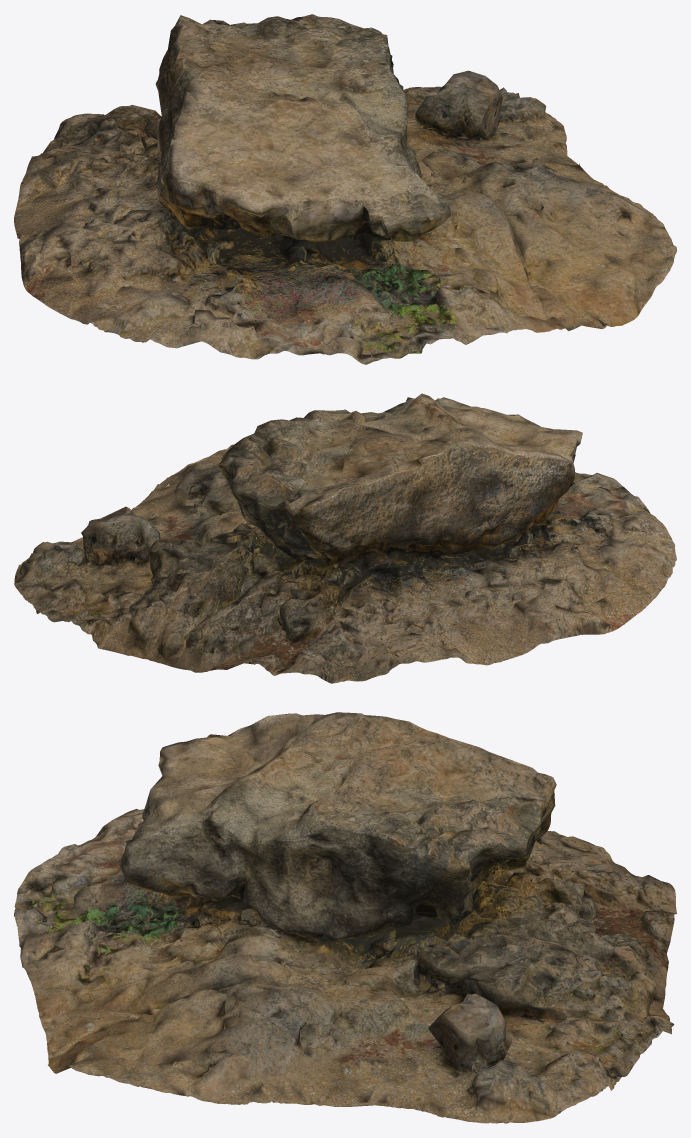
File: shelf.glb
The picture shows the model from 3 angles, top to bottom: view 1: azimuth 30°, elevation 25°; view 2: azimuth 150°, elevation 25°; view 3: azimuth 270°, elevation 25°; orthographic projection. The views are drawn at different scales.
Visible parts, largest first — view 1: rockShelf; view 2: rockShelf; view 3: rockShelf.
Boxes of the visible parts, x1=… form: rockShelf: x1=14, y1=14, x2=676, y2=364; rockShelf: x1=14, y1=393, x2=676, y2=683; rockShelf: x1=14, y1=712, x2=676, y2=1123.
Size of the model in its own units: 4.04 by 1.33 by 3.75.
1 material, 1 textured.
